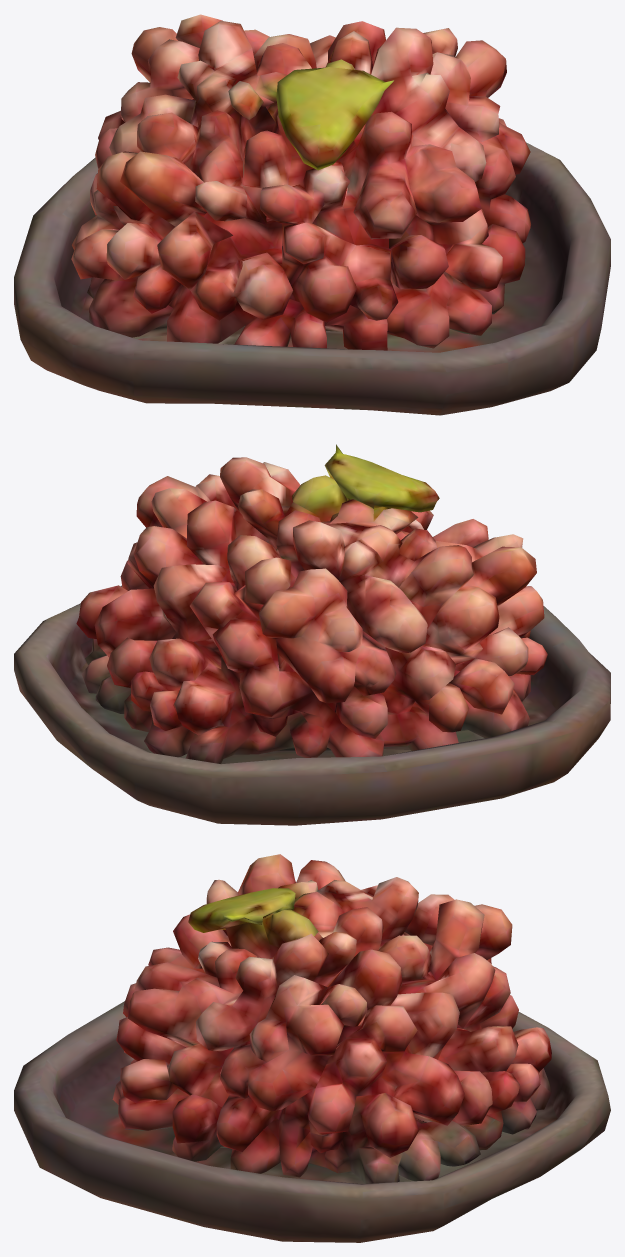
Rendered from minced-beef.glb.
3 views of the same model, one above another, from view 1: azimuth 30°, elevation 25°; view 2: azimuth 150°, elevation 25°; view 3: azimuth 270°, elevation 25° (orthographic). The views are drawn at different scales.
Parts seen in each view (by area): view 1: Minced Beef; view 2: Minced Beef; view 3: Minced Beef.
Boxes of the visible parts, x1,y1,x2,y2 form: Minced Beef: (14,14,610,415); Minced Beef: (14,444,610,825); Minced Beef: (14,854,610,1242).
Size of the model in its own units: 1.94 by 0.8907 by 1.97.
1 material, 1 textured.
